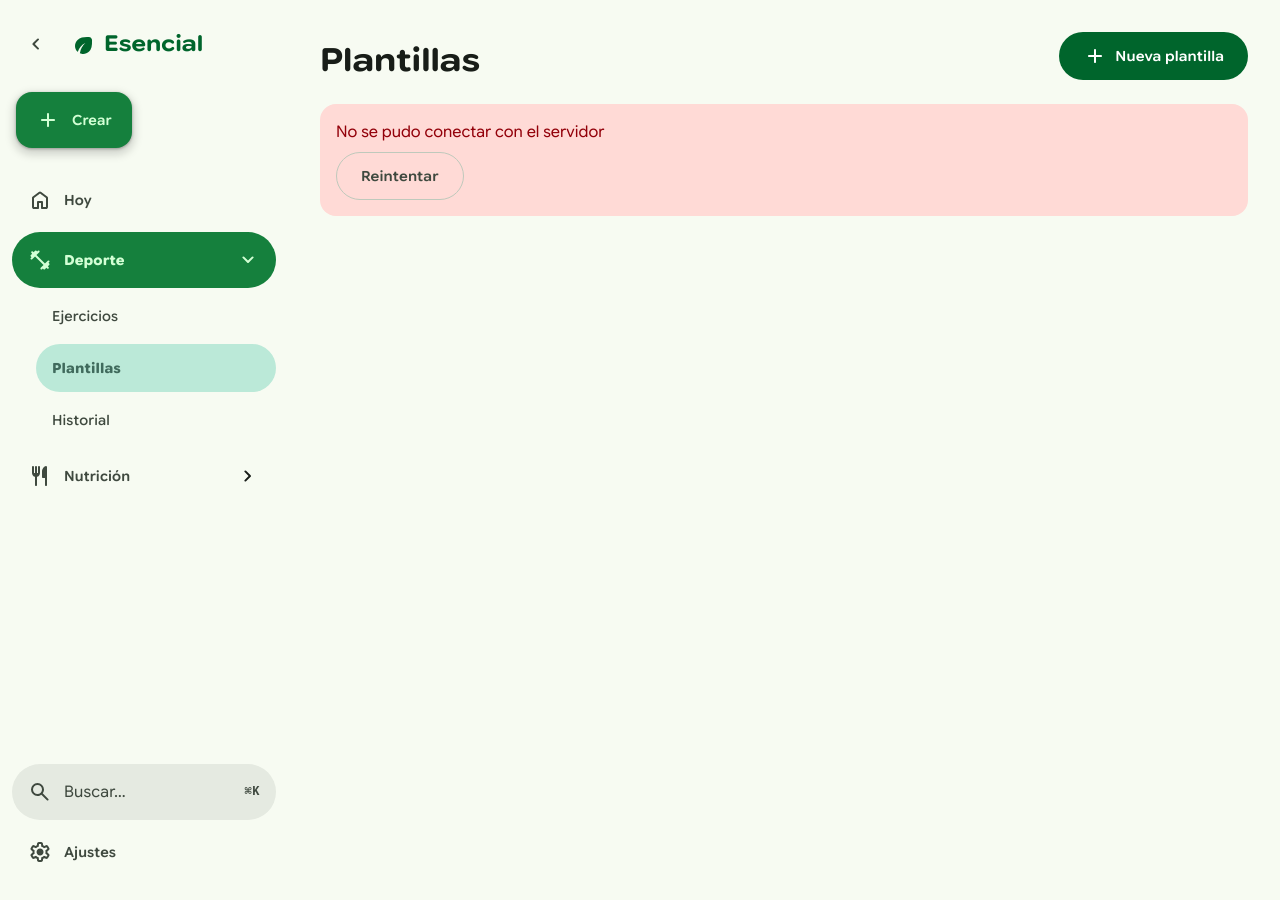
página de plantillas › API error shows a retry card; retry reloads
Click the button "Reintentar": (400, 176) [336,152,464,200]
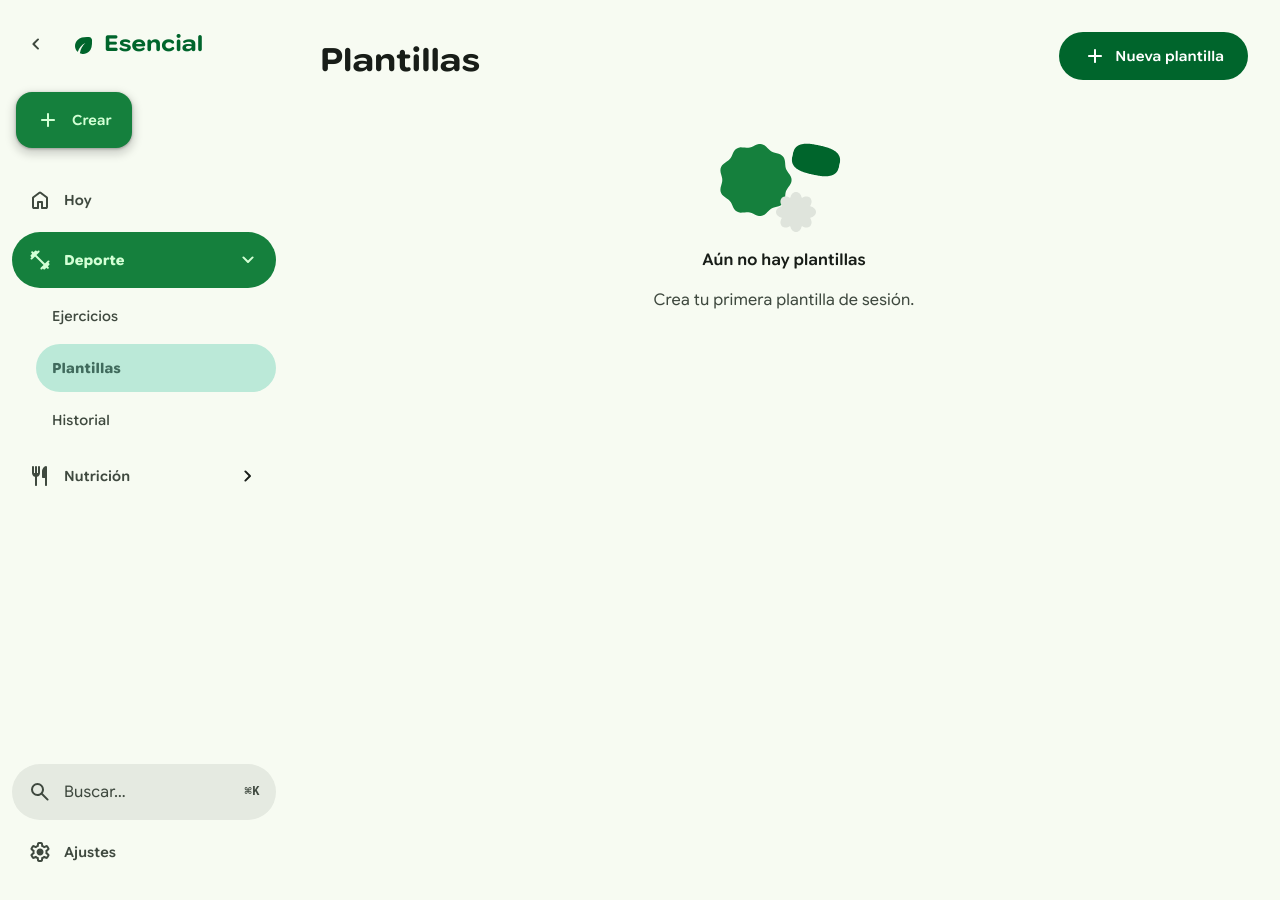
Check: the text "Crea tu primera plantilla de sesión." is shown, box [654,288,914,312]
